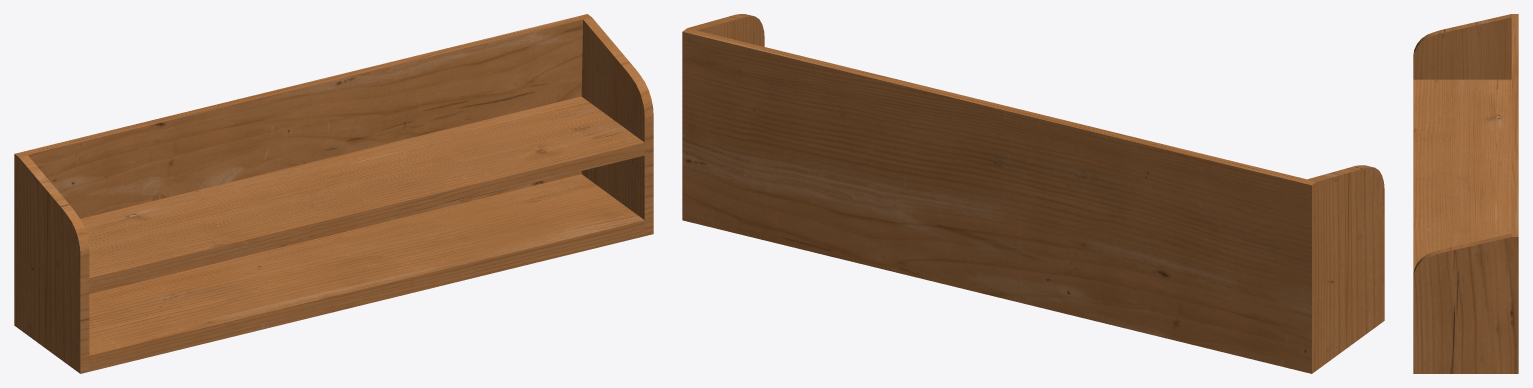
Rendered from Shelf 002.fbx.
3 views of the same model, side by side, from view 1: azimuth 30°, elevation 25°; view 2: azimuth 150°, elevation 25°; view 3: azimuth 270°, elevation 25° (orthographic). The views are drawn at different scales.
Parts seen in each view (by area): view 1: Cube; view 2: Cube; view 3: Cube.
Part boxes in pixels (bbox=[...]): Cube: bbox=[14, 14, 653, 373]; Cube: bbox=[682, 14, 1384, 373]; Cube: bbox=[1413, 14, 1518, 373].
Bounding box in the file's own units: 200 × 57.24 × 40.
